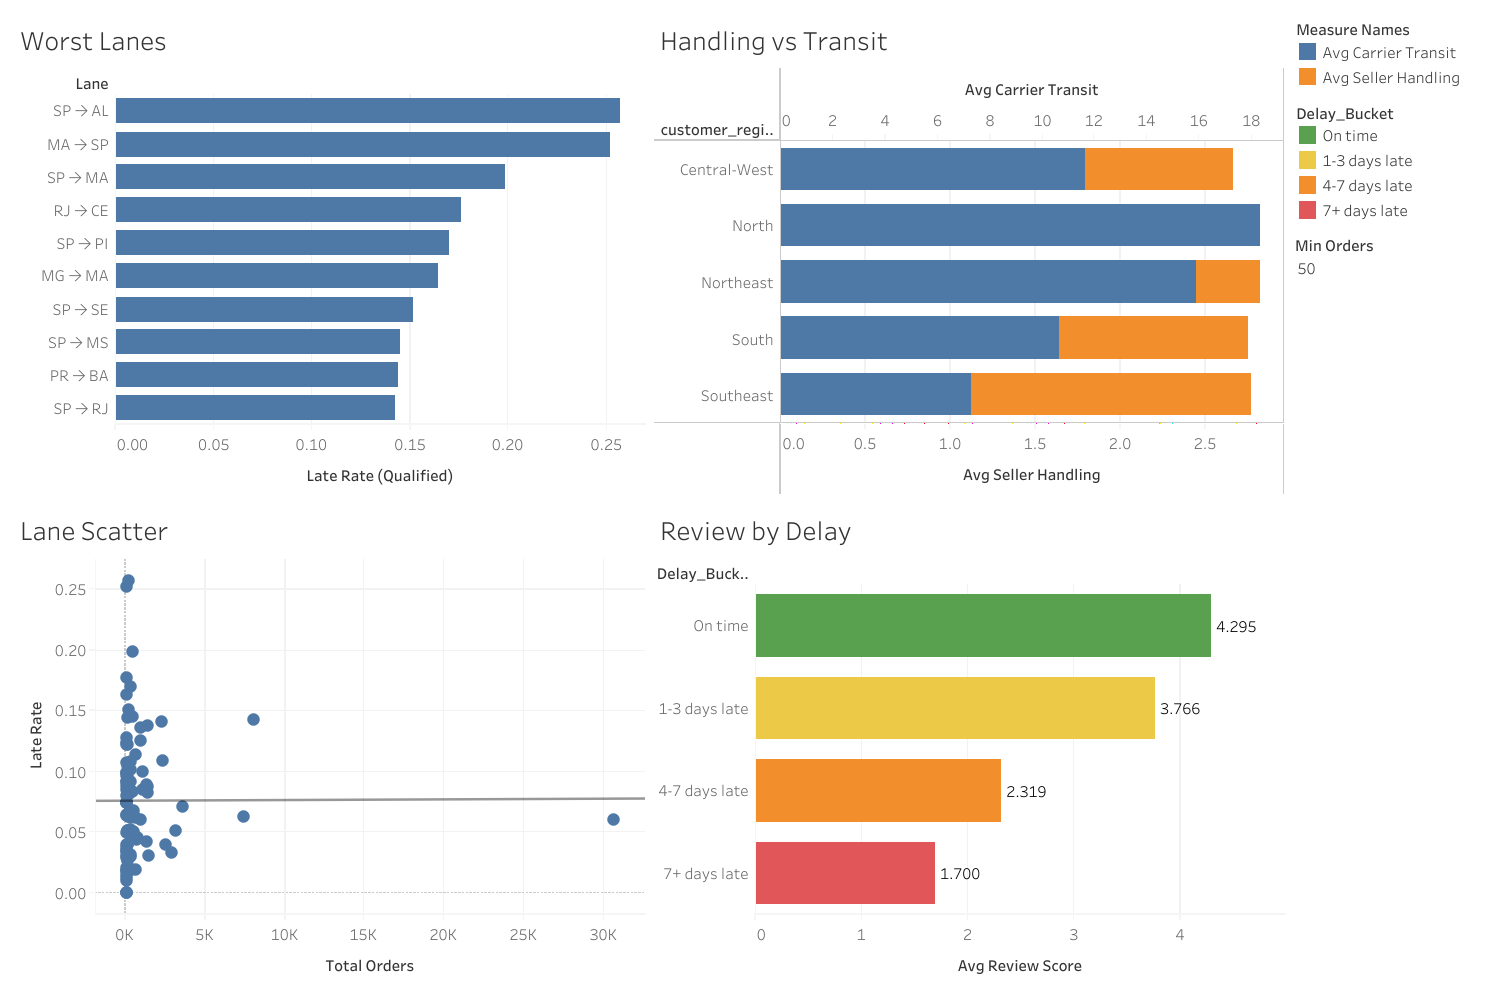

What the dashboard file says about the page in this screenshot:
{"tool":"tableau","page":{"name":"Lanes","canvas":[1200,800],"ordinal":2},"visuals":[{"type":"worksheet","title":"Worst Lanes","mark":"Automatic","rows":["lane"],"cols":["Calculation_1560810803277834"],"box":[8,8,512,392]},{"type":"worksheet","title":"Handling vs Transit","mark":"Bar","rows":["customer_region"],"cols":["Calculation_1560810802638852","Calculation_1560810802700293"],"box":[520,8,512,392]},{"type":"legend","title":"Handling vs Transit","param":"[federated.0lywm801rpjyfs19sa0tz1ya7n22].[:Measure Names]","box":[1032,8,160,72]},{"type":"legend","title":"Review by Delay","param":"[federated.0lywm801rpjyfs19sa0tz1ya7n22].[none:delay_bucket:nk]","box":[1032,80,160,114]},{"type":"parameter","param":"[Parameters].[Parameter 1560810803068936]","box":[1032,194,160,56]},{"type":"worksheet","title":"Lane Scatter","mark":"Circle","rows":["Calculation_1560810802462722"],"cols":["Calculation_1560810801852416"],"box":[8,400,512,392]},{"type":"worksheet","title":"Review by Delay","mark":"Automatic","rows":["delay_bucket"],"cols":["Calculation_1560810802757638"],"box":[520,400,512,392]}]}

Visuals, with their boxes in screenshot pixels (x1, y1, x2, y2), scaled from the page's 1200x800 canvas onto the 1499x999 screenshot:
"Worst Lanes" worksheet: bbox=[10, 10, 650, 500]
"Handling vs Transit" worksheet (Bar marks): bbox=[650, 10, 1289, 500]
"Handling vs Transit" legend: bbox=[1289, 10, 1489, 100]
"Review by Delay" legend: bbox=[1289, 100, 1489, 242]
parameter: bbox=[1289, 242, 1489, 312]
"Lane Scatter" worksheet (Circle marks): bbox=[10, 500, 650, 989]
"Review by Delay" worksheet: bbox=[650, 500, 1289, 989]
